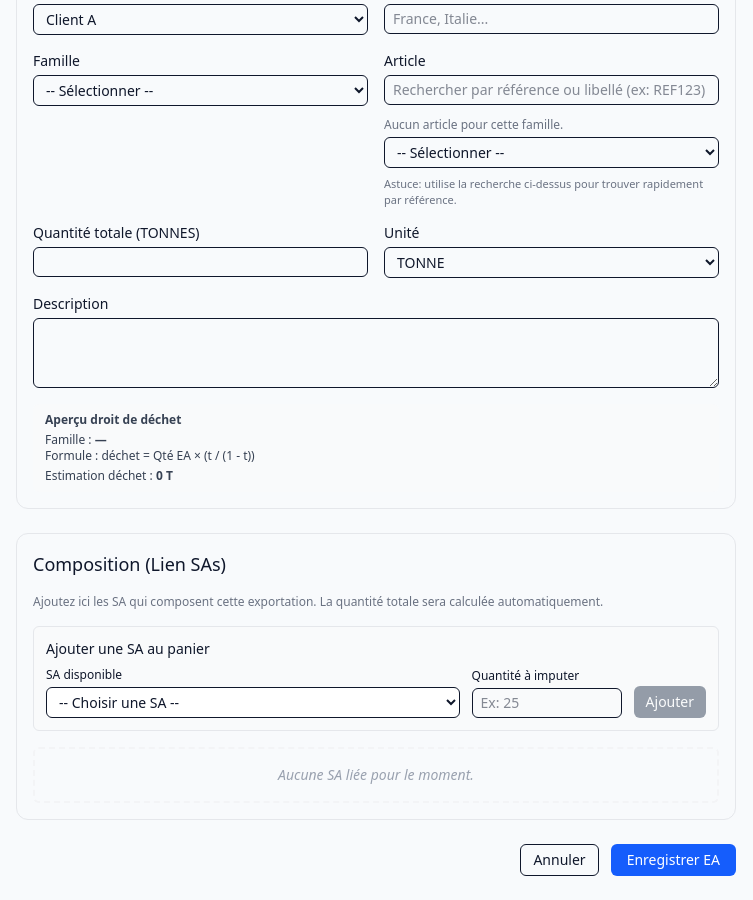
it: EA new page (client validations) › shows required field error when submitting empty
(page scrolled)
Click the button "Enregistrer EA" at (673, 860), box left=611, top=844, right=736, bottom=876
(page scrolled)
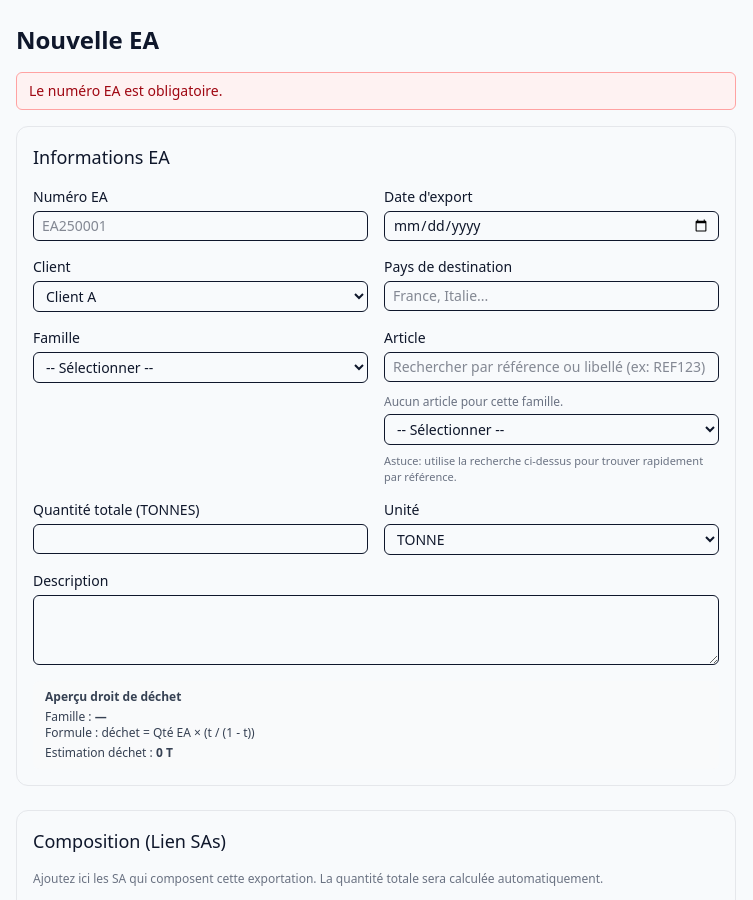
Check: the text "Le numéro EA est obligatoire." is shown, box left=16, top=72, right=736, bottom=110
